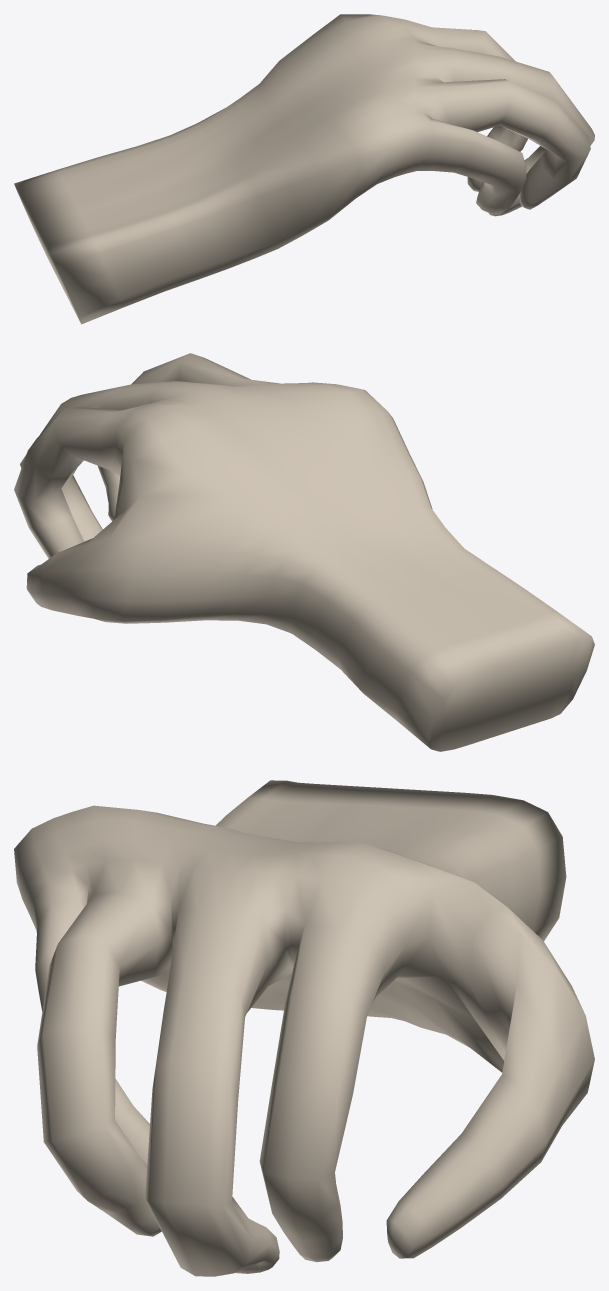
File: Hand Closed.fbx
The picture shows the model from 3 angles, top to bottom: view 1: azimuth 30°, elevation 25°; view 2: azimuth 150°, elevation 25°; view 3: azimuth 270°, elevation 25°; orthographic projection. The views are drawn at different scales.
Visible parts, largest first — view 1: Cube; view 2: Cube; view 3: Cube.
Part boxes in pixels (x1,y1,x2,y2): Cube: (14,14,594,324); Cube: (14,353,594,751); Cube: (14,780,594,1276).
Size of the model in its own units: 370 by 142 by 201.
